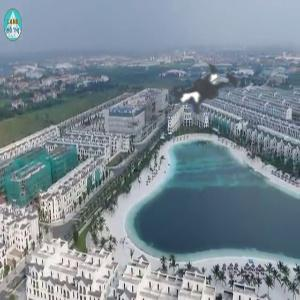drone: (142, 26, 272, 156)
